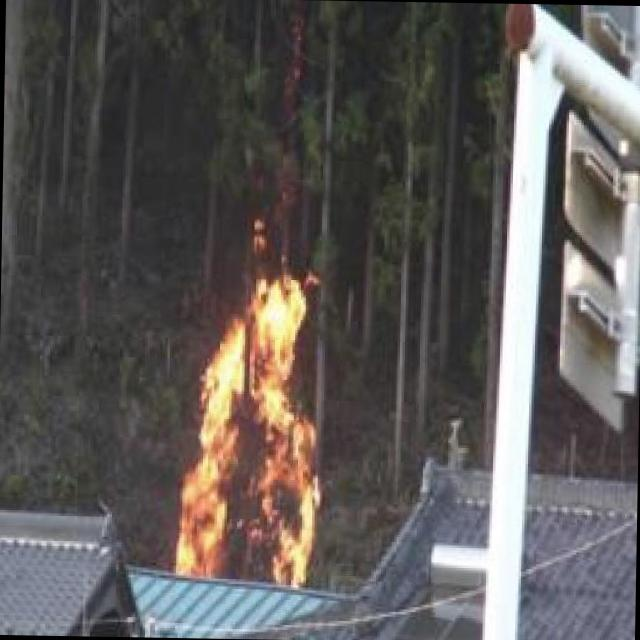Fire: (172, 259, 334, 586)
